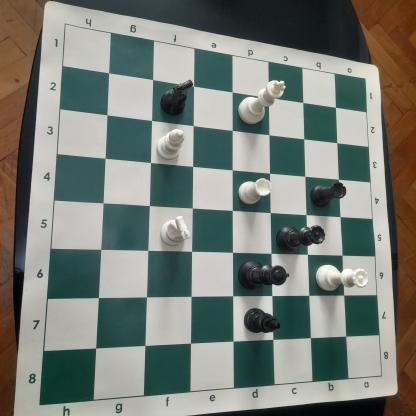black-bishop: (241, 303, 281, 335)
black-king: (235, 256, 292, 296)
black-knight: (158, 76, 193, 117)
black-queen: (276, 223, 328, 253)
black-rook: (309, 178, 347, 210)
white-bishop: (154, 127, 188, 164)
white-king: (233, 78, 288, 130)
white-knight: (158, 214, 193, 248)
white-queen: (314, 261, 372, 294)
white-rook: (236, 175, 274, 207)
